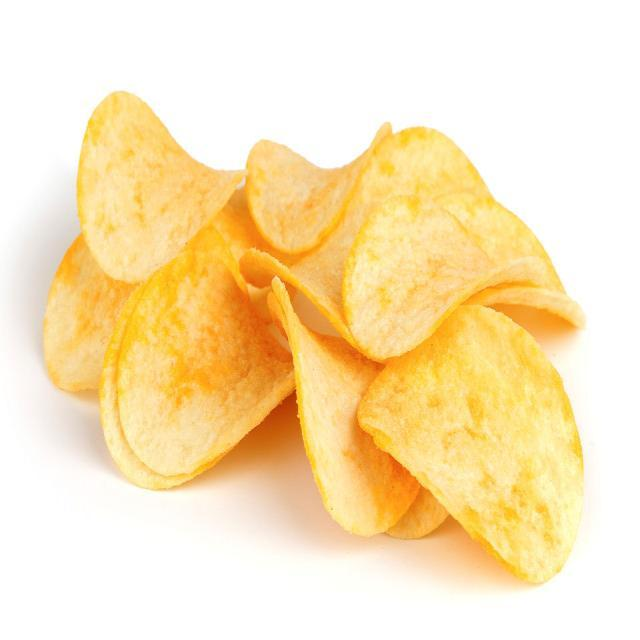Chips packaged: (34, 86, 594, 592)
